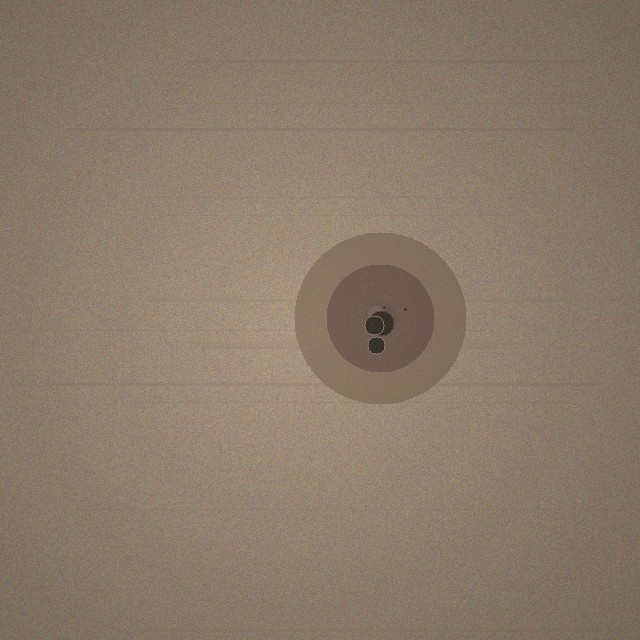shrinkage: (294, 232, 466, 404)
